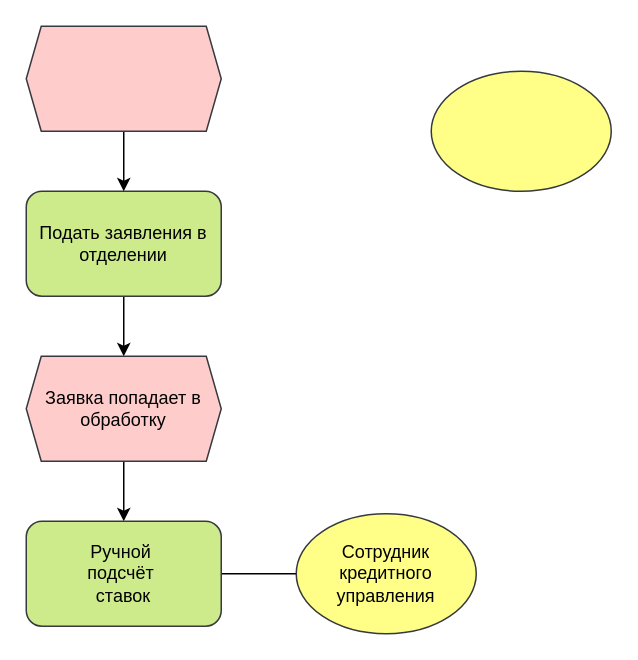
Image size: 638x660. Some labels were removed from this diagram. The box of each missing label's shape, as (x1, y1, x2, y2) in pixels:
Клиент: (430, 70, 611, 191)
Клиент приходит в отделение: (25, 25, 221, 131)
